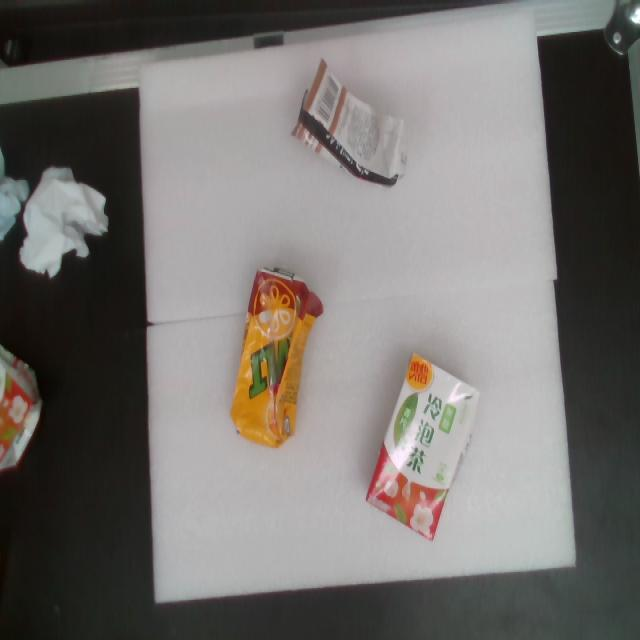juicebox: (342, 338, 507, 564), (263, 46, 445, 211), (209, 253, 346, 467)
paper: (11, 141, 118, 280)
